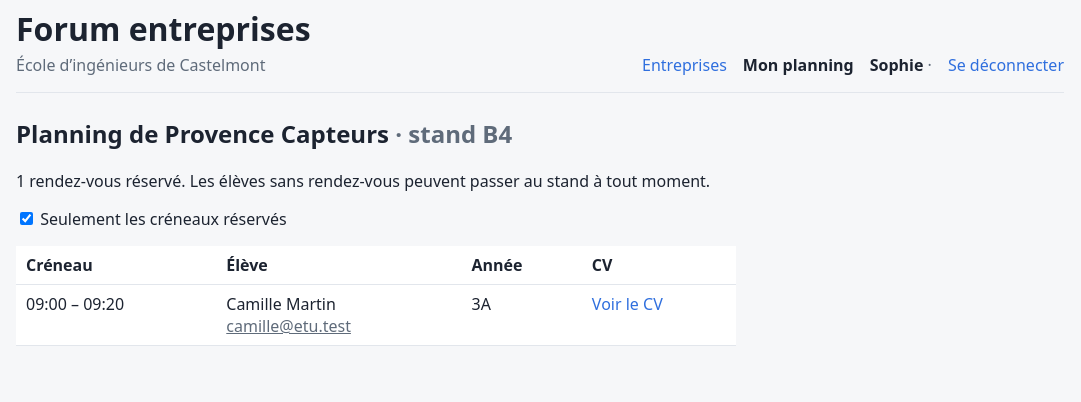
the pages of each role › the recruiter sees who they meet, with the year and the CV
Expected: the text "3A" is shown, [462, 284, 582, 345]
Expected: the button "Voir le CV" is shown, [592, 293, 663, 315]
Click the checkbox labelled "Seulement les créneaux réservés". click: [26, 218]
box: [20, 212, 33, 225]
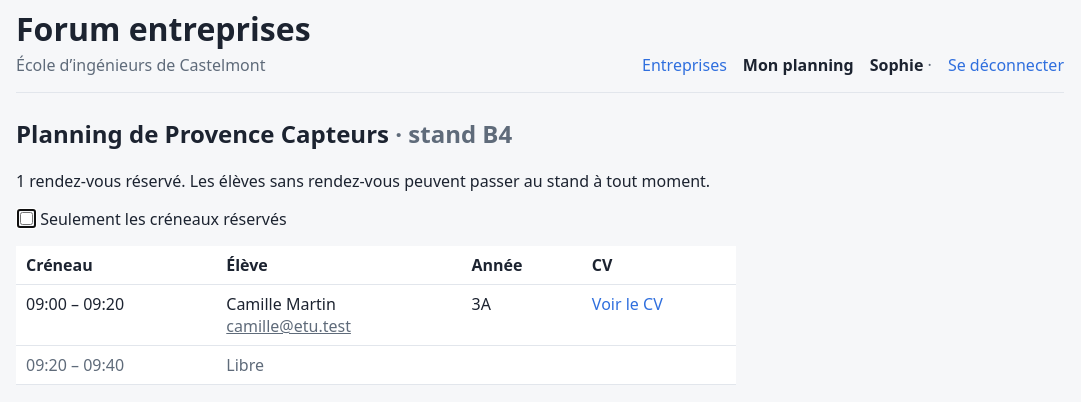
Now the text "Libre" is shown, box [216, 345, 736, 384]
